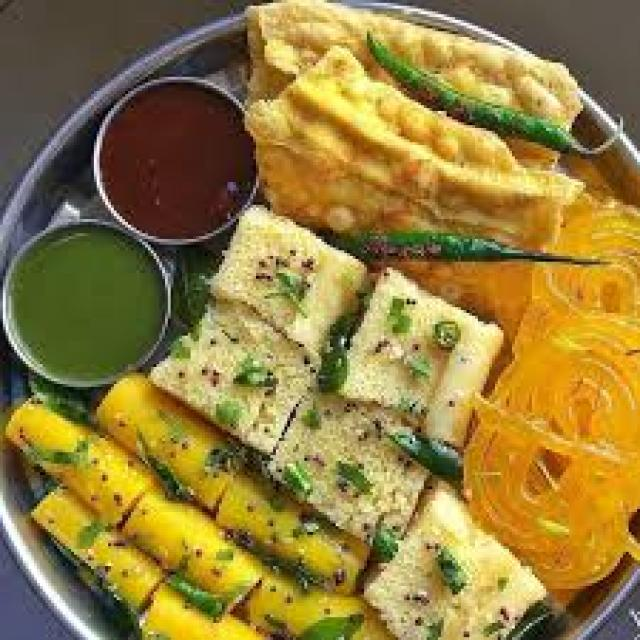DHOKLA: (364, 481, 543, 637), (344, 270, 501, 444), (151, 304, 313, 452), (210, 205, 361, 358), (270, 395, 427, 540)
